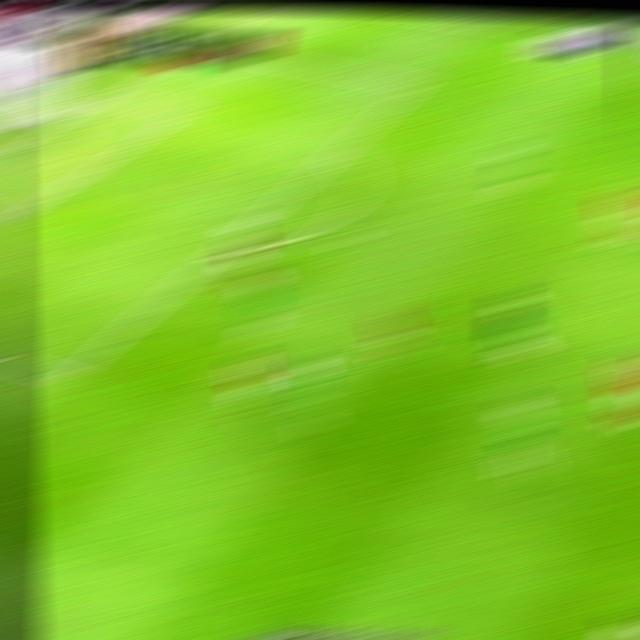bigarea_bottom_inner: (48, 366, 84, 387)
bigarea_top_inner: (400, 79, 430, 89)
bottom_arc_area_intersection: (201, 246, 233, 257)
smallarea_bottom_inner: (0, 210, 22, 230)
smallarea_top_inner: (169, 106, 199, 116)
smallarea_top_outter: (97, 89, 129, 99)
top_arc_area_intersection: (321, 146, 351, 158)
